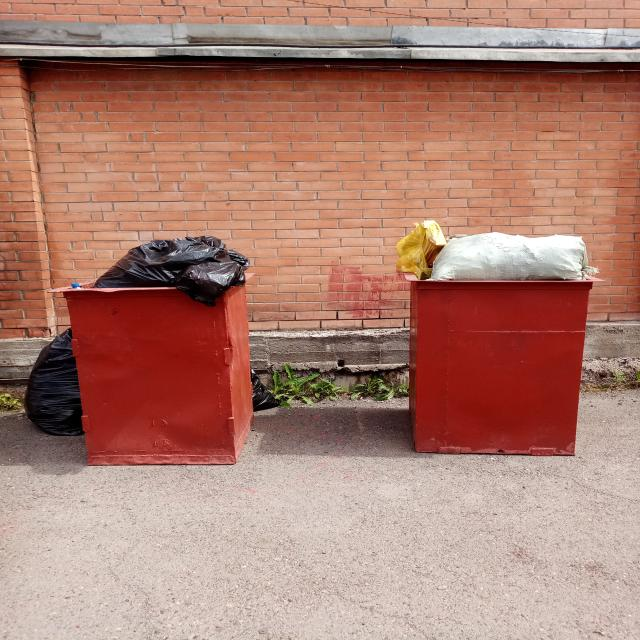bin: (69, 288, 257, 468), (409, 280, 589, 455)
plastic: (394, 218, 594, 280), (81, 237, 244, 301), (22, 329, 75, 433), (253, 369, 278, 408)
